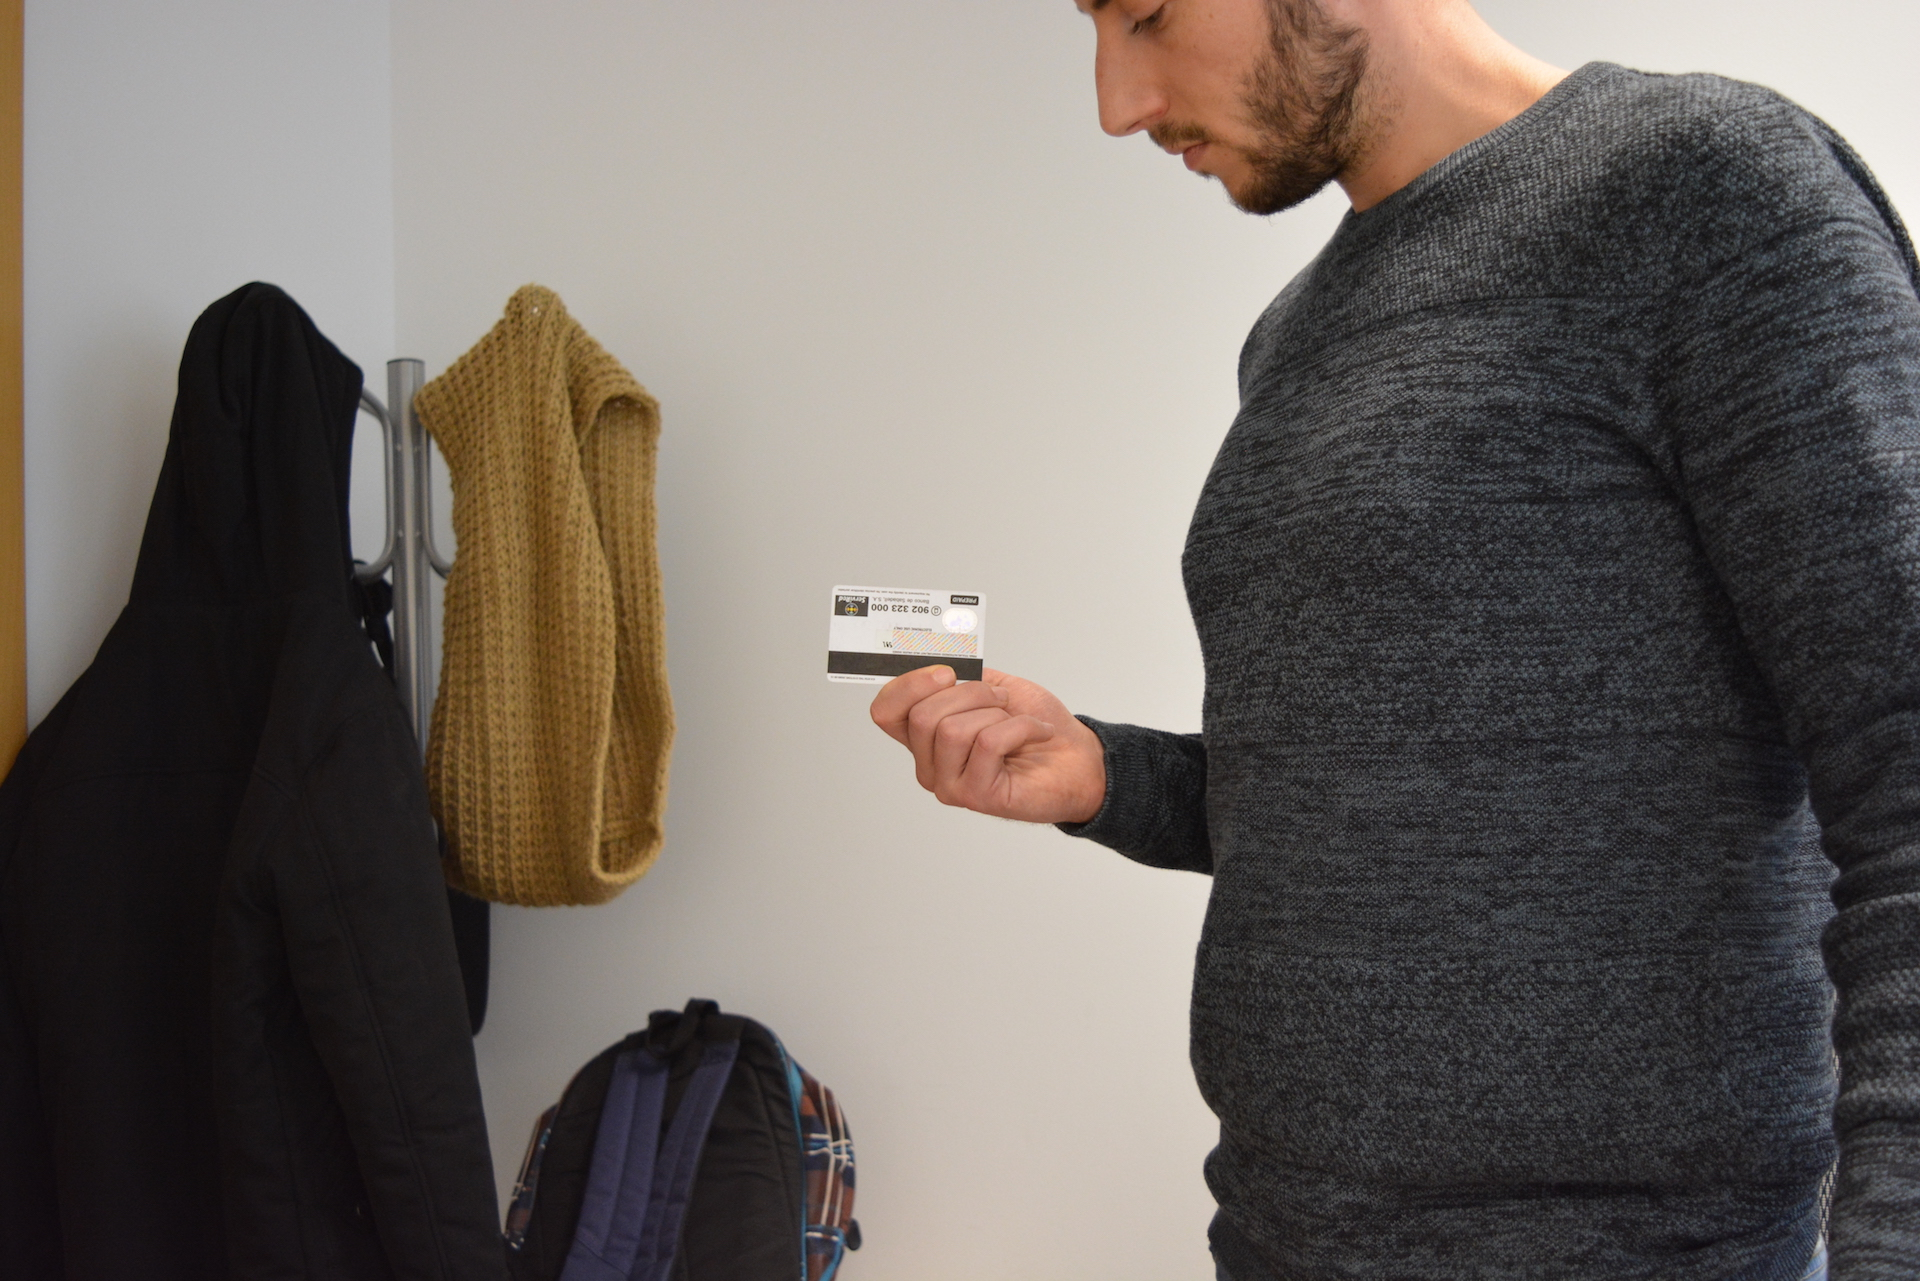tarjeta: (826, 583, 986, 688)
